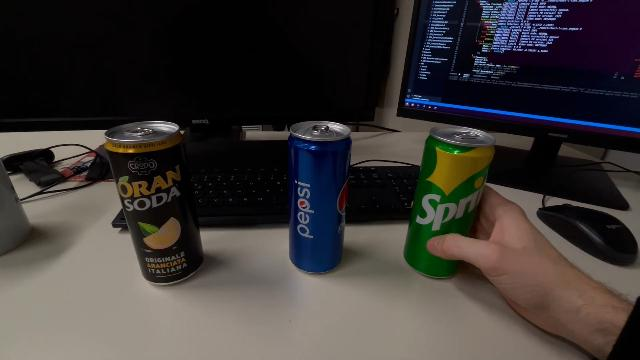OranSoda: (102, 118, 208, 288)
Pepsi: (286, 118, 354, 274)
Sprite: (399, 122, 496, 282)
